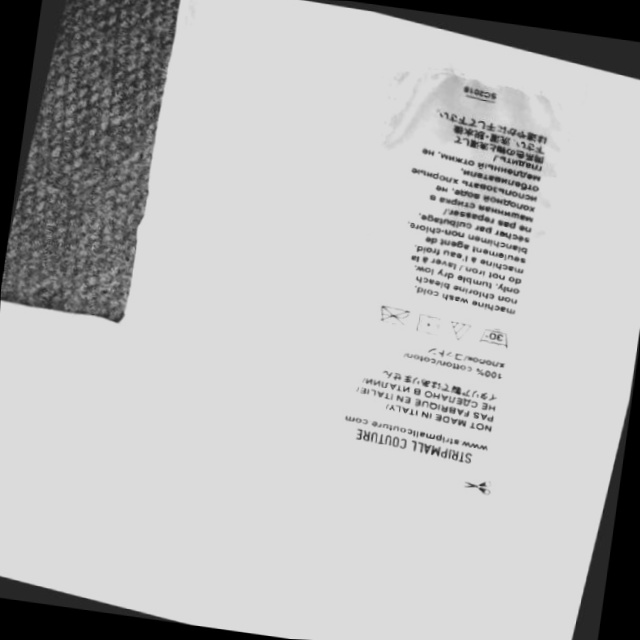30C: (477, 324, 515, 349)
DN_iron: (372, 302, 411, 331)
non_chlorine_bleach: (446, 318, 474, 343)
tumble_dry_low: (413, 311, 448, 337)
